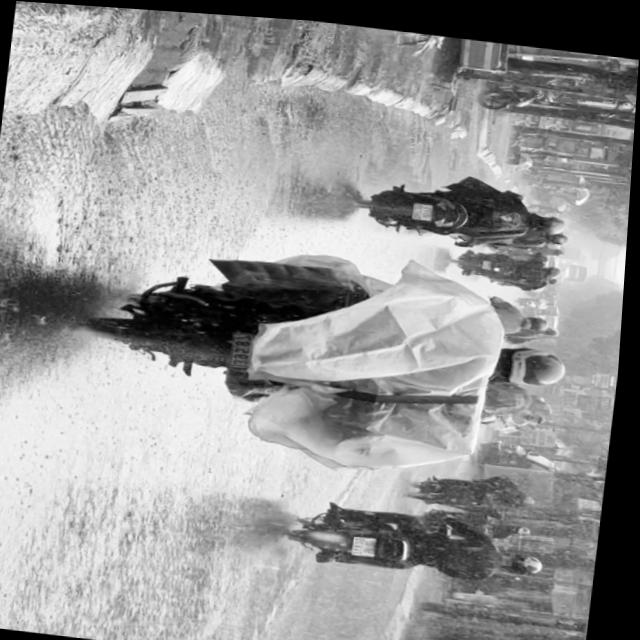helmet: (500, 337, 575, 383), (511, 544, 553, 569), (537, 205, 573, 228)
licenseplate: (77, 218, 587, 433), (284, 490, 559, 586), (360, 162, 579, 248)
nohelmet: (360, 530, 385, 552), (416, 197, 438, 215)
